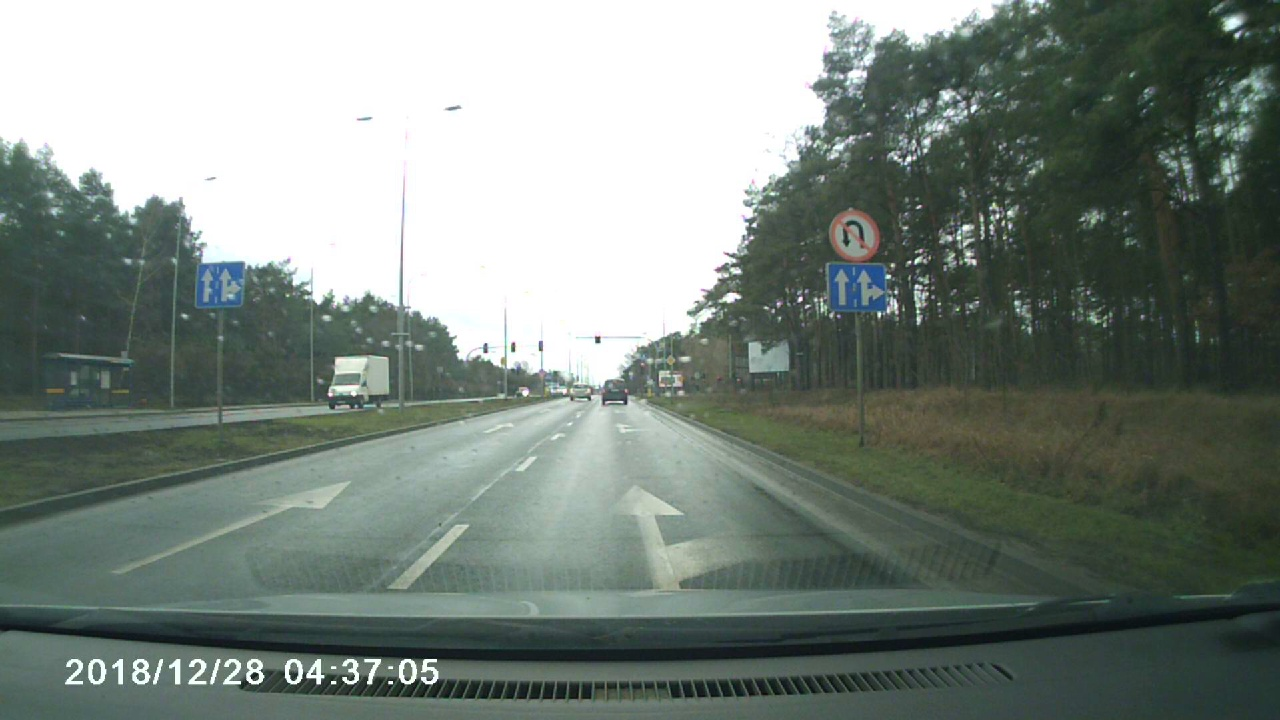B23: (827, 206, 883, 261)
